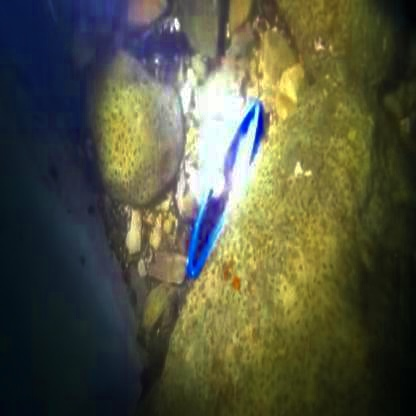sunglasses: (184, 106, 282, 279)
